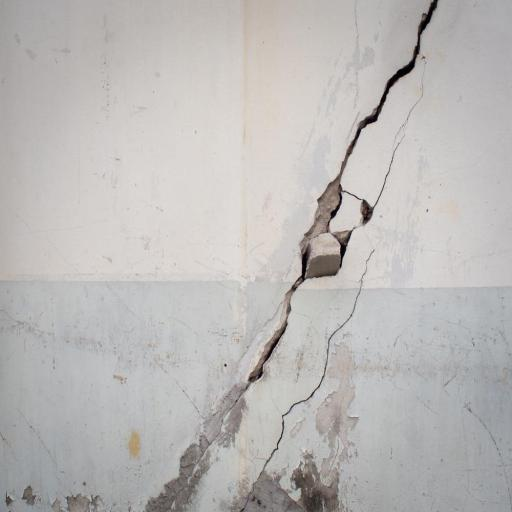spalling: (255, 245, 377, 476), (334, 0, 439, 180), (343, 63, 429, 219), (299, 177, 370, 283), (248, 279, 301, 386)
